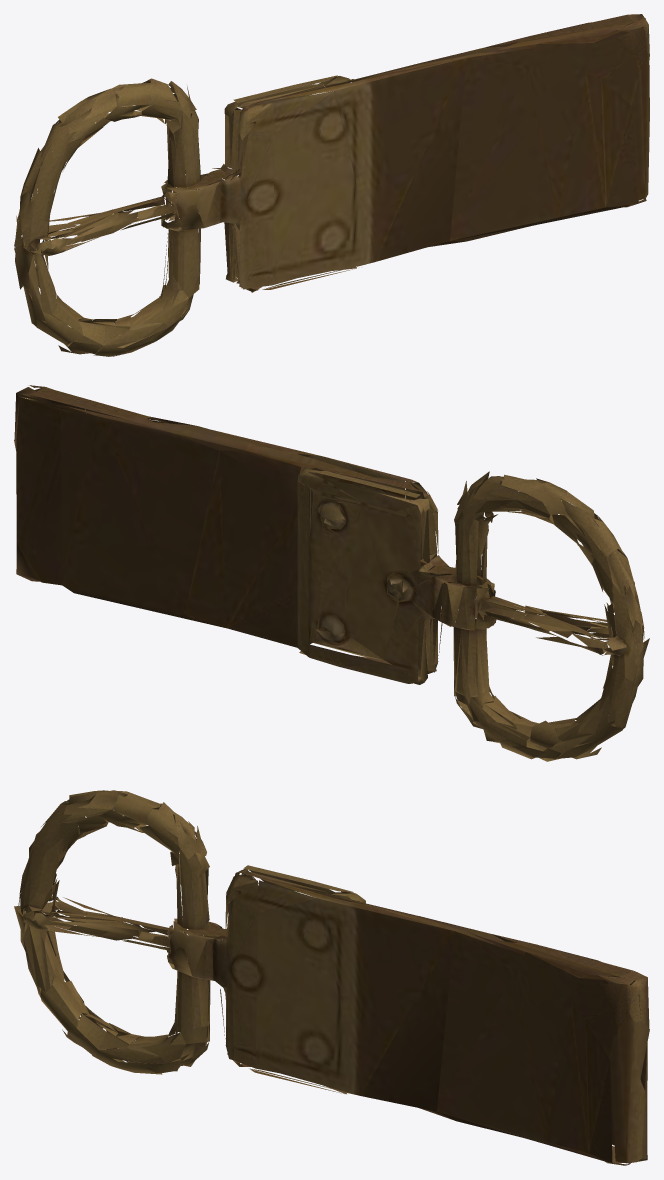
The model's file is buckle_p2_w1.glb.
3 renders of one model, top to bottom at view 1: azimuth 30°, elevation 25°; view 2: azimuth 150°, elevation 25°; view 3: azimuth 330°, elevation 25°, orthographic. The views are drawn at different scales.
Parts seen in each view (by area): view 1: buckle_p2_w1; view 2: buckle_p2_w1; view 3: buckle_p2_w1.
Part boxes in pixels (bbox=[...]): buckle_p2_w1: bbox=[14, 14, 649, 356]; buckle_p2_w1: bbox=[14, 385, 649, 761]; buckle_p2_w1: bbox=[14, 790, 649, 1165].
Bounding box in the file's own units: 0.1207 × 0.05 × 0.0128.
1 material, 1 textured.
